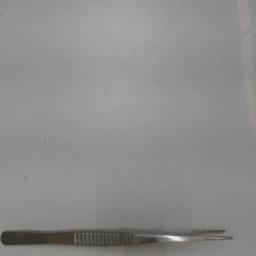DeBakey Dissector: (2, 216, 250, 252)
